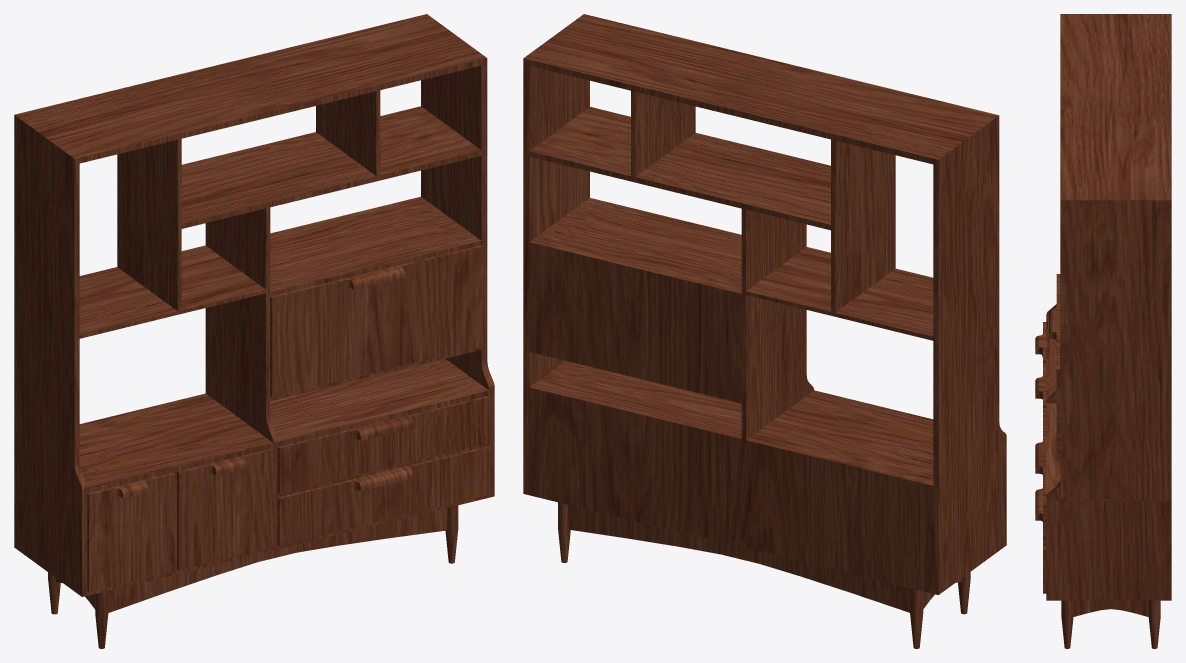
Rendered from book_shelve1.glb.
3 renders of one model, left to right at view 1: azimuth 30°, elevation 25°; view 2: azimuth 150°, elevation 25°; view 3: azimuth 270°, elevation 25°, orthographic. The views are drawn at different scales.
Visible parts, largest first — view 1: bokahilla; view 2: bokahilla; view 3: bokahilla.
Part boxes in pixels (x1,y1,x2,y2): bokahilla: [14, 14, 494, 648]; bokahilla: [523, 14, 1006, 648]; bokahilla: [1035, 14, 1171, 648].
Size of the model in its own units: 1.71 by 1.97 by 0.5293.
Materials: 1 (1 with a texture image).
